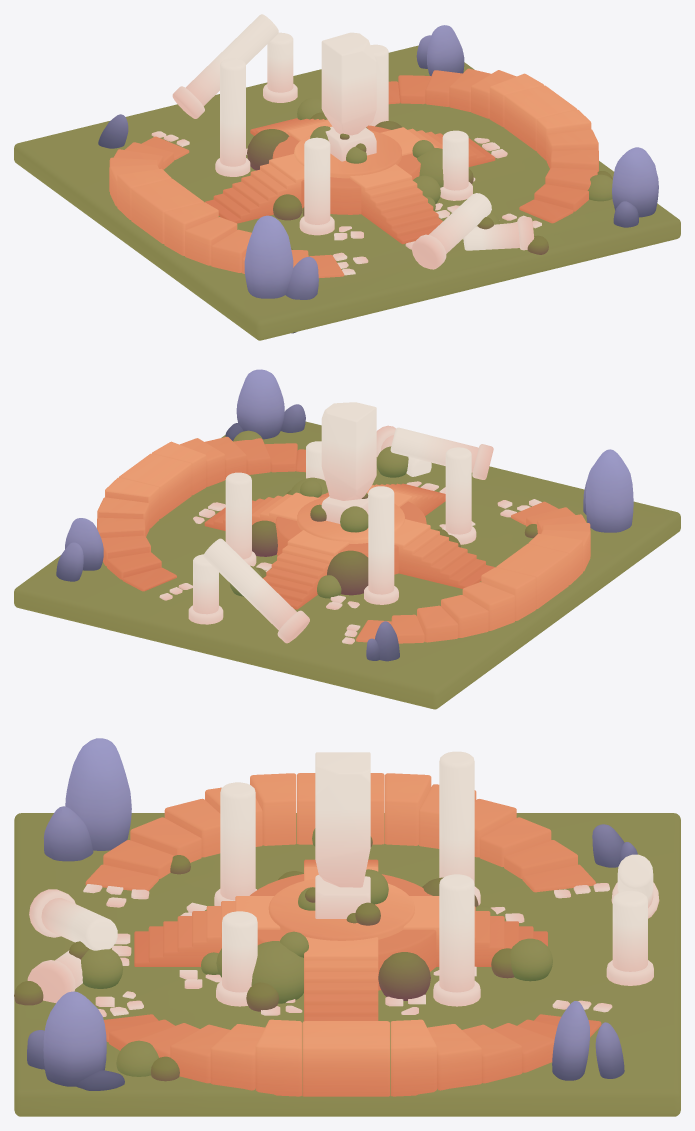
File: First_Level.fbx
3 views of the same model, one above another, from view 1: azimuth 30°, elevation 25°; view 2: azimuth 150°, elevation 25°; view 3: azimuth 270°, elevation 25° (orthographic). The views are drawn at different scales.
Visible parts, largest first — view 1: Cube_2, Cylinder, Cube_1, Cube, Platonic_3, Cylinder_3, Cylinder_8, Cylinder_4, Cylinder_6, Platonic, Cylinder_7, Cylinder_2 (+10 smaller); view 2: Cube_2, Cylinder, Cube_1, Cube, Cylinder_8, Platonic_3, Cylinder_3, Platonic, Cylinder_4, Cylinder_6, Cylinder_1, Cylinder_7 (+10 smaller); view 3: Cube_2, Cylinder, Cube_1, Cube, Platonic_3, Cylinder_1, Platonic, Cylinder_3, Cylinder_4, Cylinder_7, Cylinder_6, Cylinder_2 (+17 smaller).
Part boxes in pixels (x1,y1,x2,y2): Cube_2: [14, 45, 680, 340]; Cylinder: [205, 32, 495, 244]; Cube_1: [388, 68, 598, 223]; Cube: [109, 136, 344, 277]; Platonic_3: [244, 215, 293, 298]; Cylinder_3: [215, 58, 250, 176]; Cylinder_8: [172, 14, 278, 118]; Cylinder_4: [299, 137, 334, 235]; Cylinder_6: [411, 193, 491, 269]; Platonic: [612, 147, 658, 217]; Cylinder_7: [263, 32, 297, 102]; Cylinder_2: [440, 130, 472, 200]; Cube_2: [14, 421, 680, 709]; Cylinder: [204, 402, 494, 609]; Cube_1: [97, 436, 305, 591]; Cube: [356, 501, 590, 643]; Cylinder_8: [203, 538, 309, 643]; Platonic_3: [585, 449, 633, 532]; Cylinder_3: [364, 486, 398, 604]; Platonic: [236, 369, 284, 439]; Cylinder_4: [442, 447, 476, 544]; Cylinder_6: [390, 427, 493, 479]; Cylinder_1: [225, 472, 256, 566]; Cylinder_7: [188, 554, 223, 624]; Cube_2: [14, 813, 680, 1116]; Cylinder: [134, 752, 547, 1021]; Cube_1: [103, 1014, 601, 1096]; Cube: [85, 773, 595, 892]; Platonic_3: [65, 738, 131, 850]; Cylinder_1: [433, 874, 480, 1006]; Platonic: [43, 991, 106, 1086]; Cylinder_3: [439, 751, 480, 905]; Cylinder_4: [214, 782, 256, 905]; Cylinder_7: [606, 890, 653, 985]; Cylinder_6: [29, 889, 117, 950]; Cylinder_2: [216, 911, 257, 1006].
Bounding box in the file's own units: 693 × 280 × 694.
